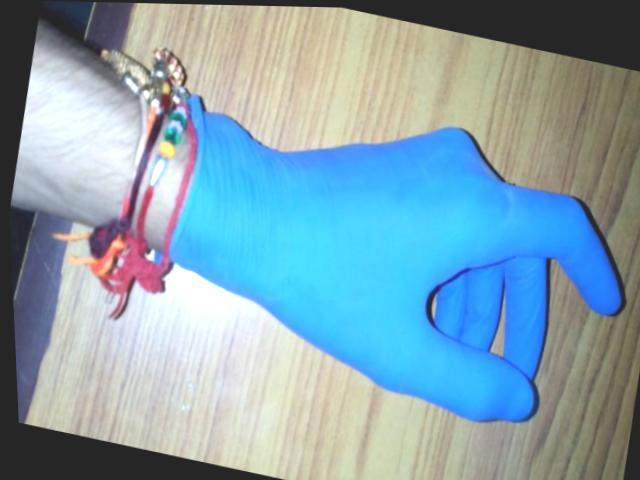Hand-in-Glove: (126, 28, 640, 480)
